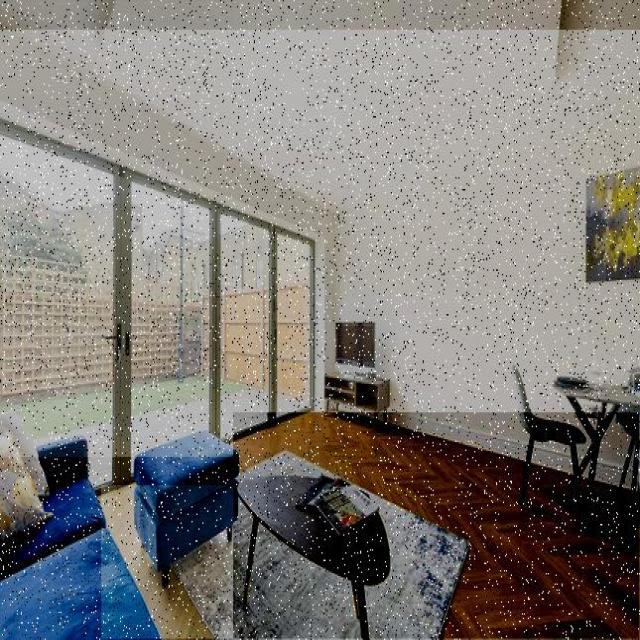Wall: (0, 31, 640, 457), (0, 0, 640, 210), (234, 414, 639, 639), (101, 486, 361, 639), (600, 430, 625, 484), (537, 446, 569, 469)
